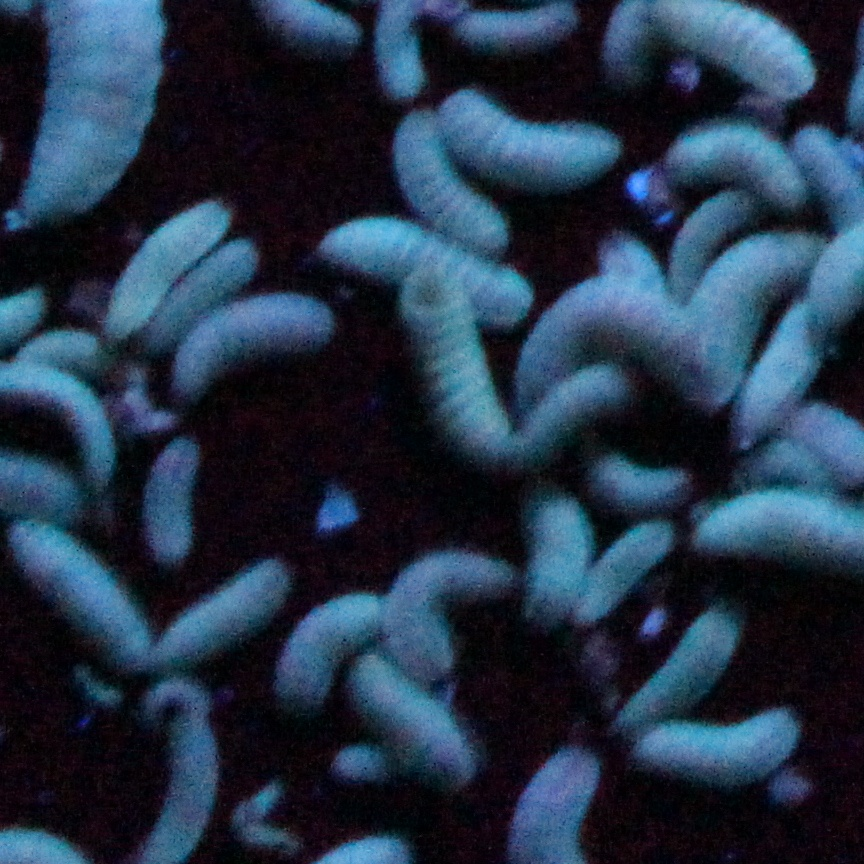larve: (399, 265, 507, 459), (689, 224, 808, 379), (330, 224, 523, 319), (515, 288, 697, 387), (454, 91, 615, 190), (19, 527, 141, 652), (365, 653, 474, 792), (156, 560, 288, 666), (392, 113, 498, 241), (111, 201, 220, 321), (738, 305, 839, 430), (387, 556, 518, 651), (664, 123, 810, 204), (275, 593, 381, 696), (186, 302, 321, 382), (153, 702, 212, 858), (581, 438, 703, 512), (639, 711, 803, 766), (593, 516, 675, 622), (158, 252, 252, 339), (445, 8, 583, 60), (538, 475, 584, 615), (147, 441, 197, 559)
